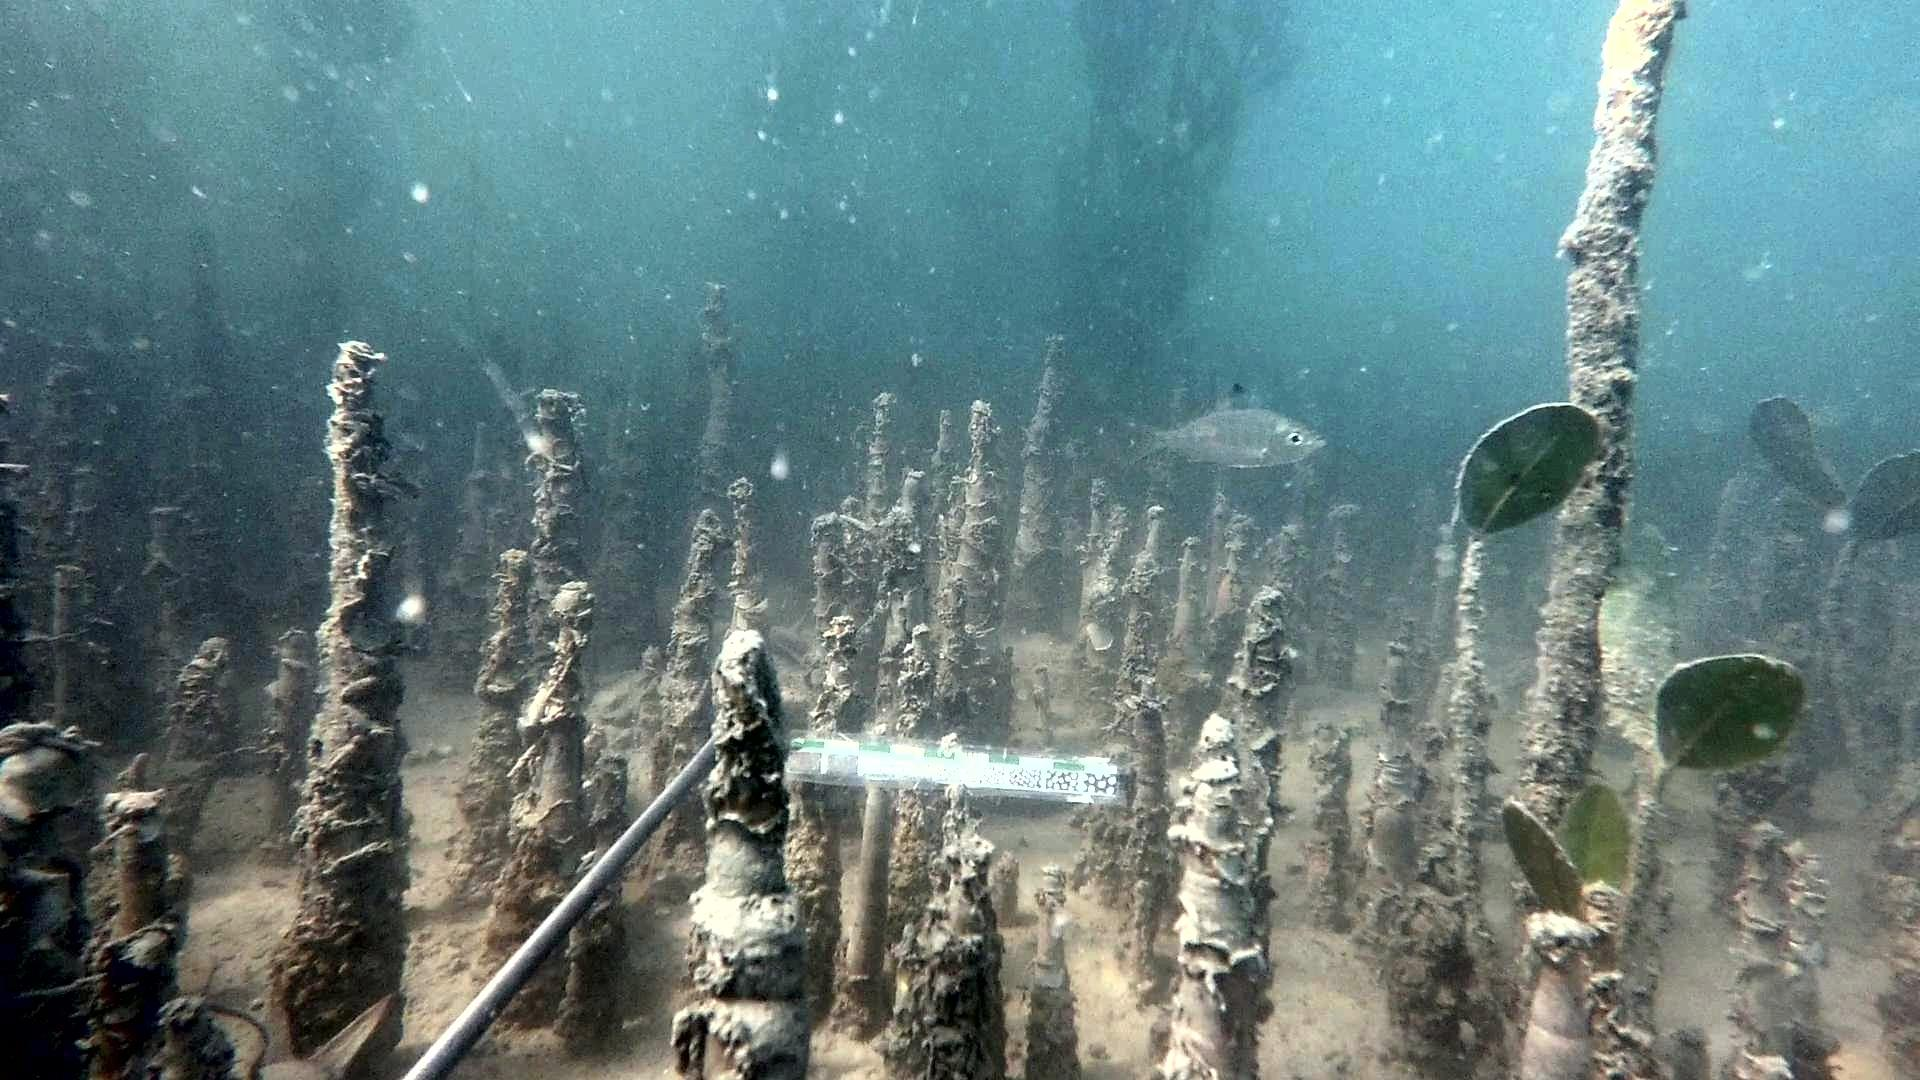gerres: (1133, 382, 1329, 471)
